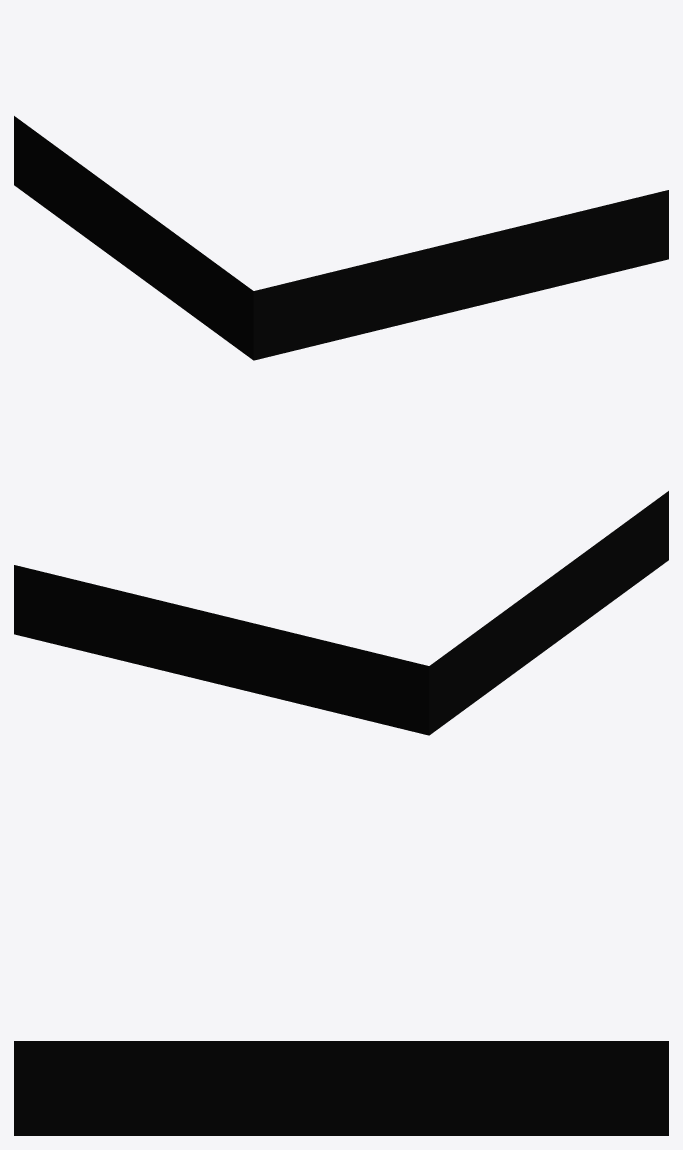
3 renders of one model, top to bottom at view 1: azimuth 30°, elevation 25°; view 2: azimuth 150°, elevation 25°; view 3: azimuth 270°, elevation 25°, orthographic. The views are drawn at different scales.
Visible parts, largest first — view 1: Joint_0_Object_0; view 2: Joint_0_Object_0; view 3: Joint_0_Object_0.
Boxes of the visible parts, bbox=[...] form: Joint_0_Object_0: bbox=[14, 116, 668, 360]; Joint_0_Object_0: bbox=[14, 491, 668, 735]; Joint_0_Object_0: bbox=[14, 1041, 668, 1135].
Size of the model in its own units: 10000 by 1600 by 10000.
1 material, 1 textured.
